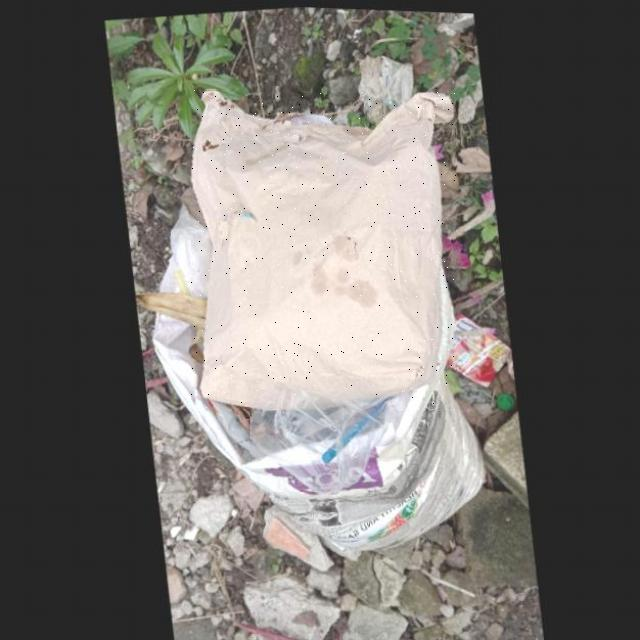paper: (191, 90, 456, 410)
plastic: (251, 396, 391, 491)
